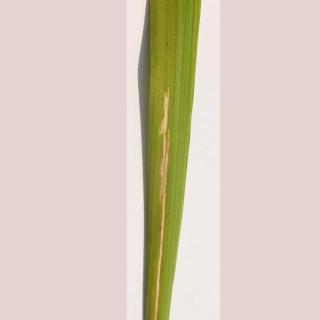Hawar-Daun: (138, 78, 198, 320)
